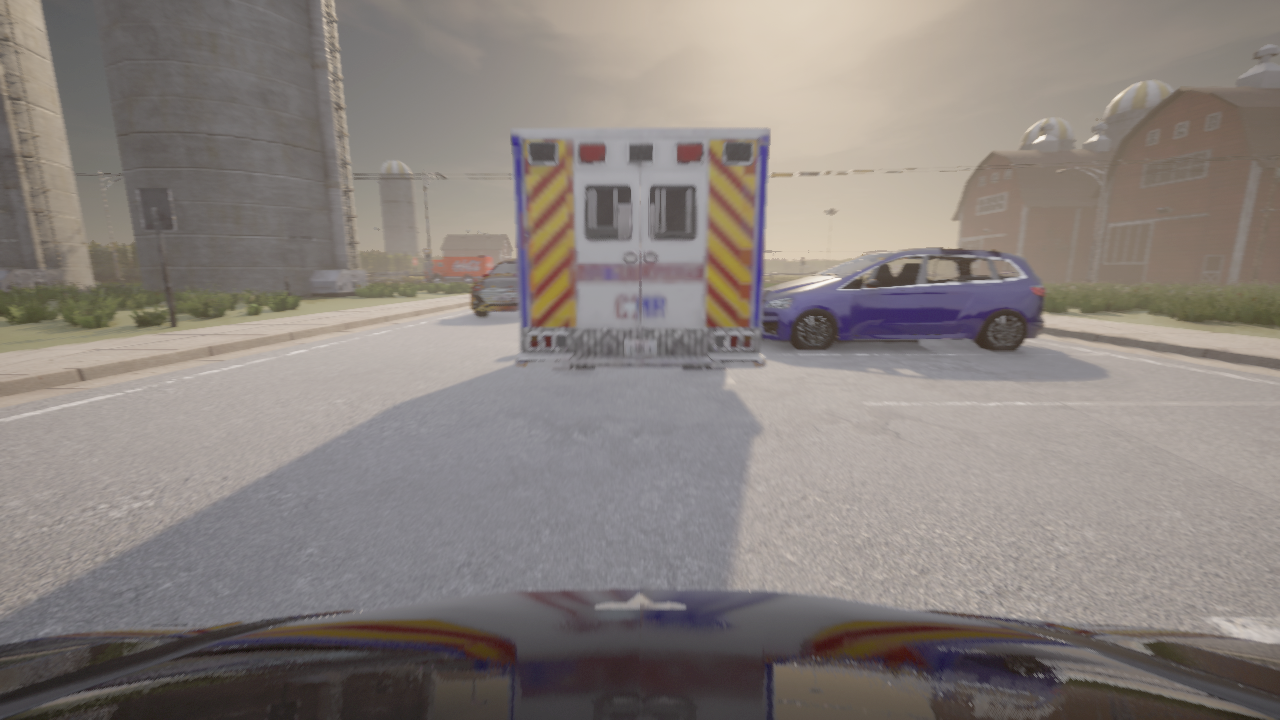cyclist: (0, 588, 1279, 719), (510, 129, 769, 370), (761, 249, 1044, 350), (470, 259, 518, 316)
